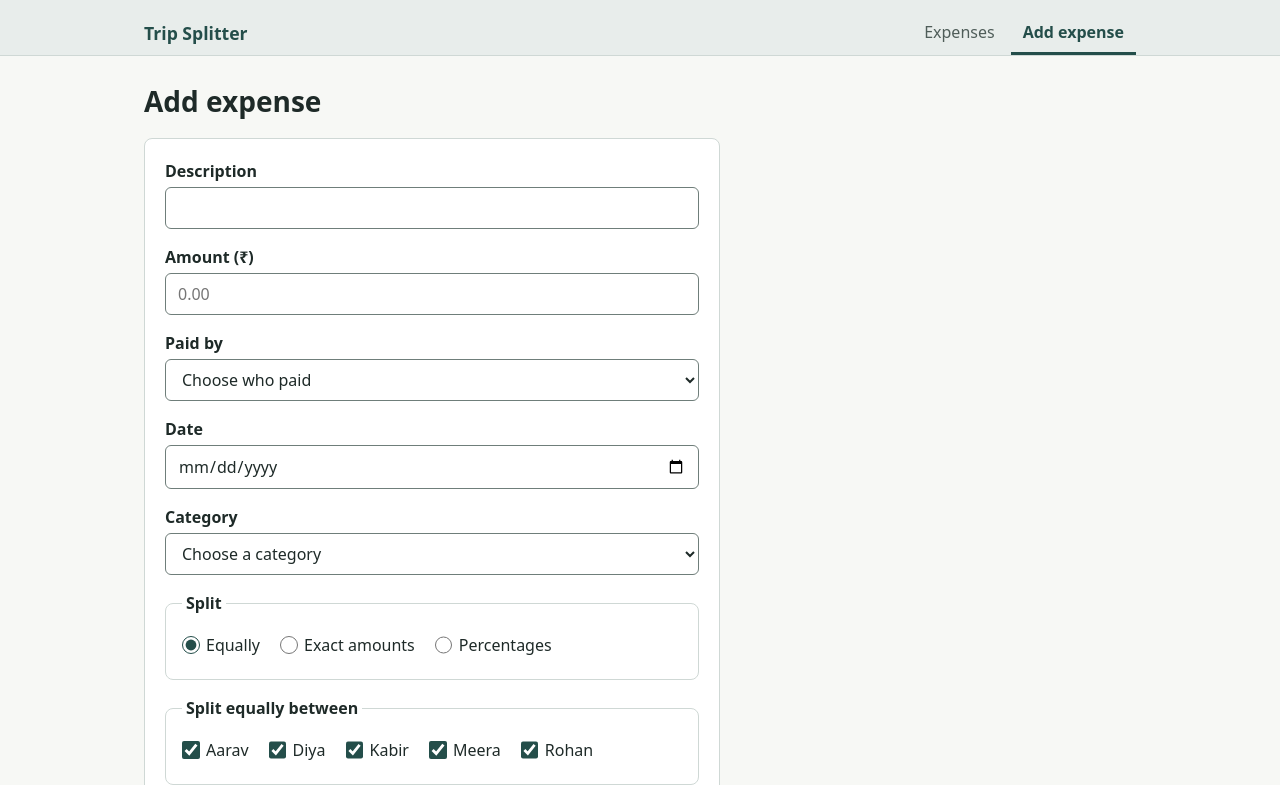
Test: Add expense form › saves a valid expense, goes to Expenses and says it was added
In the field labelled "Description": (432, 208) [165,187,699,229], type "Fish thali lunch"
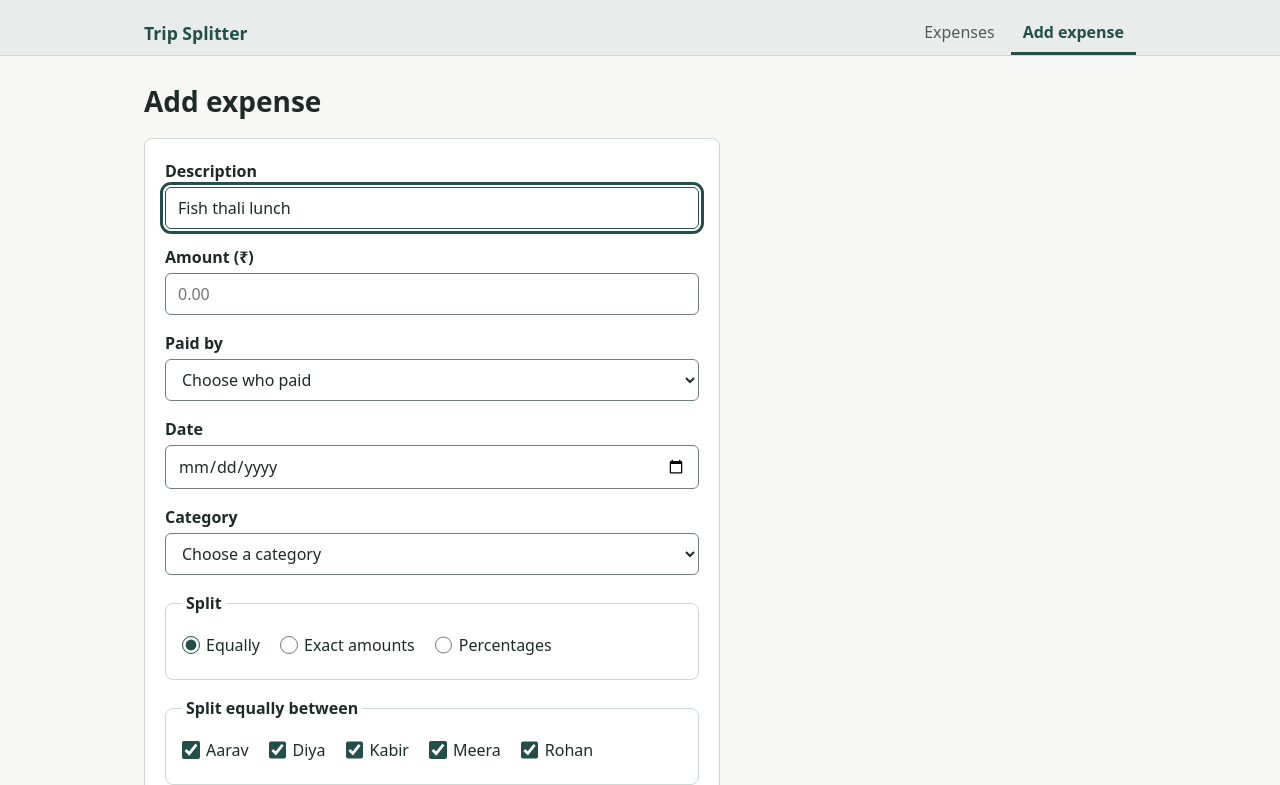
In the field labelled "Amount (₹)": (432, 294) [165,273,699,315], type "1250.50"
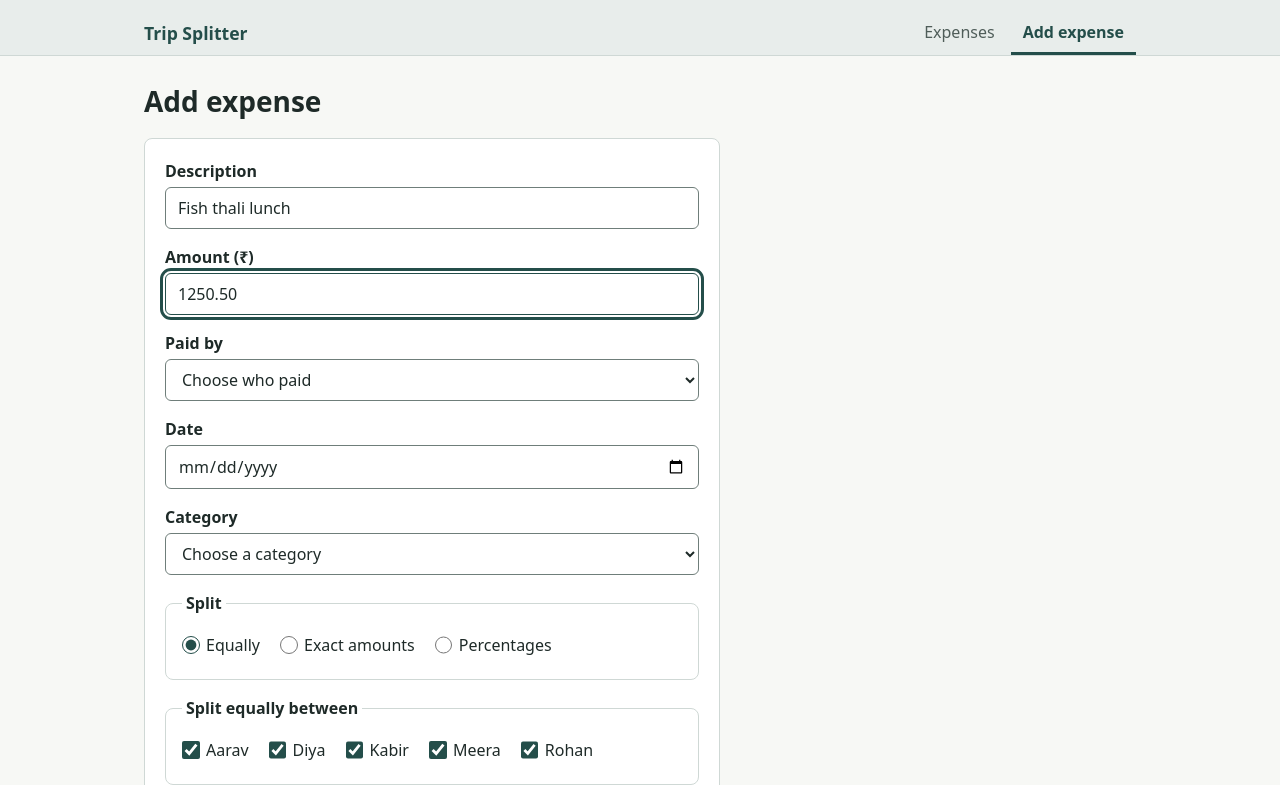
Select "Kabir" in the dropdown labelled "Paid by": (432, 380) [165,359,699,401]
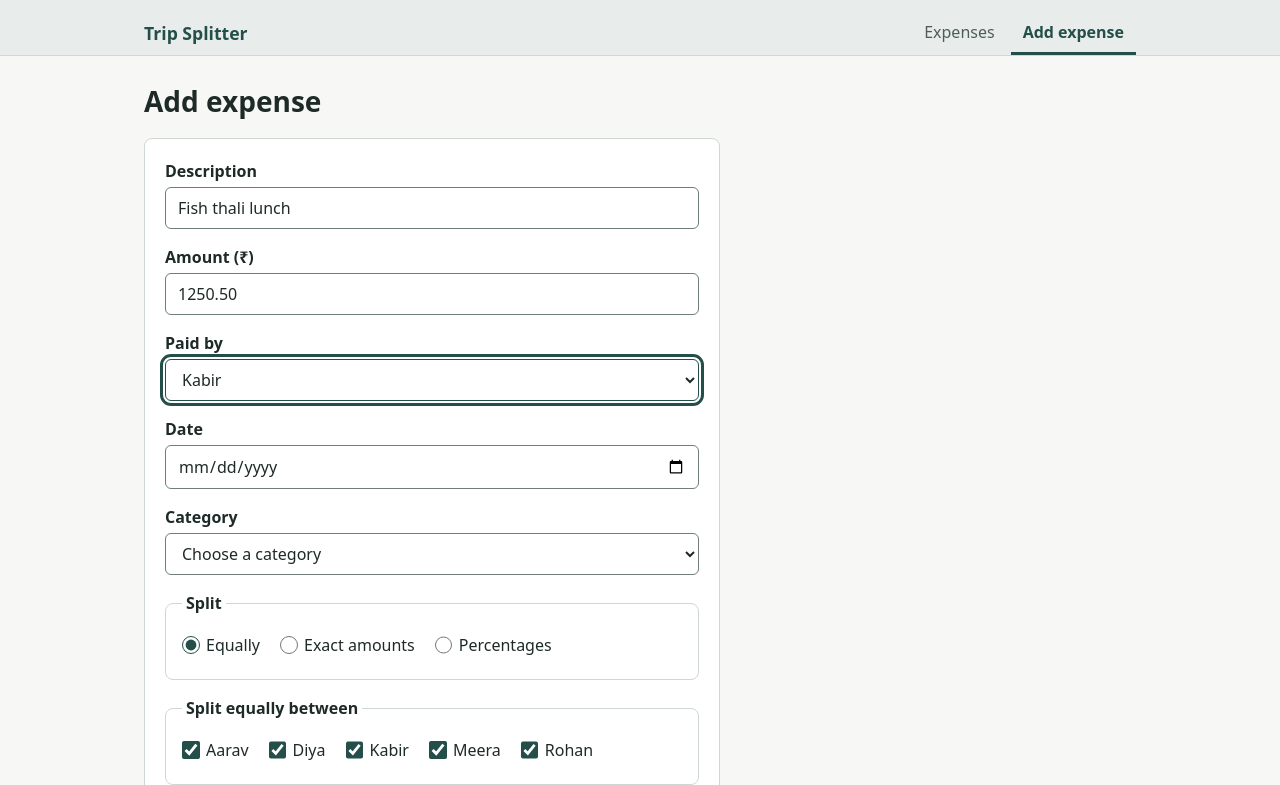
In the date field labelled "Date": (432, 467) [165,445,699,489], type "2026-03-16"
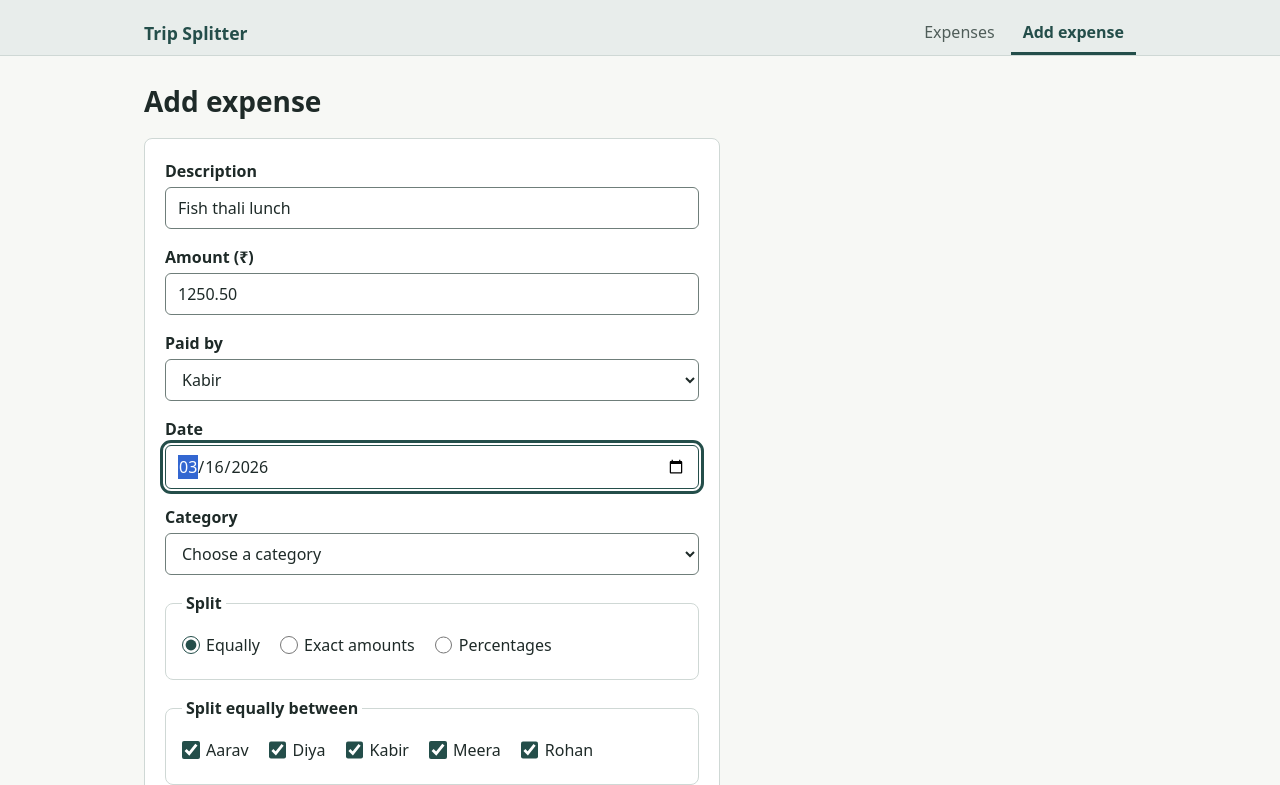
Select "Food" in the dropdown labelled "Category": (432, 554) [165,533,699,575]
(page scrolled)
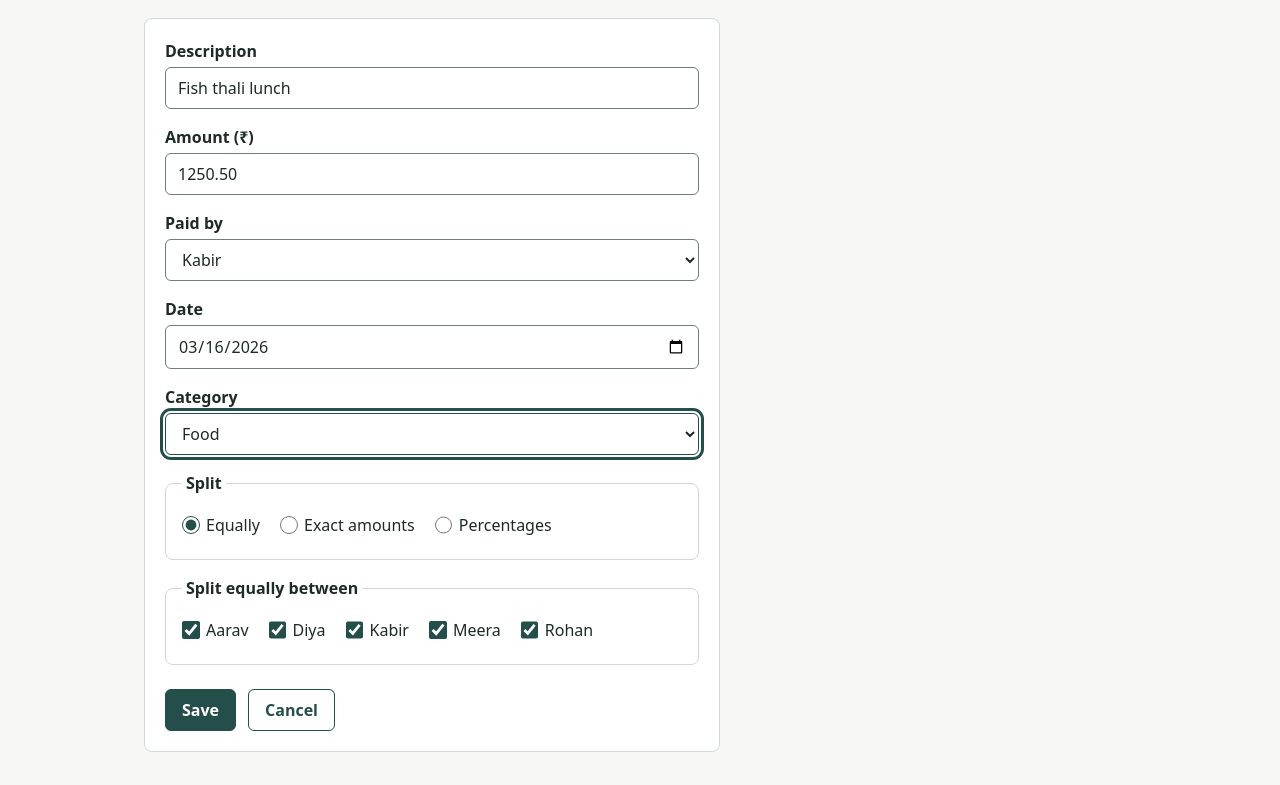
Click the button "Save": click(200, 710) [165,689,236,731]
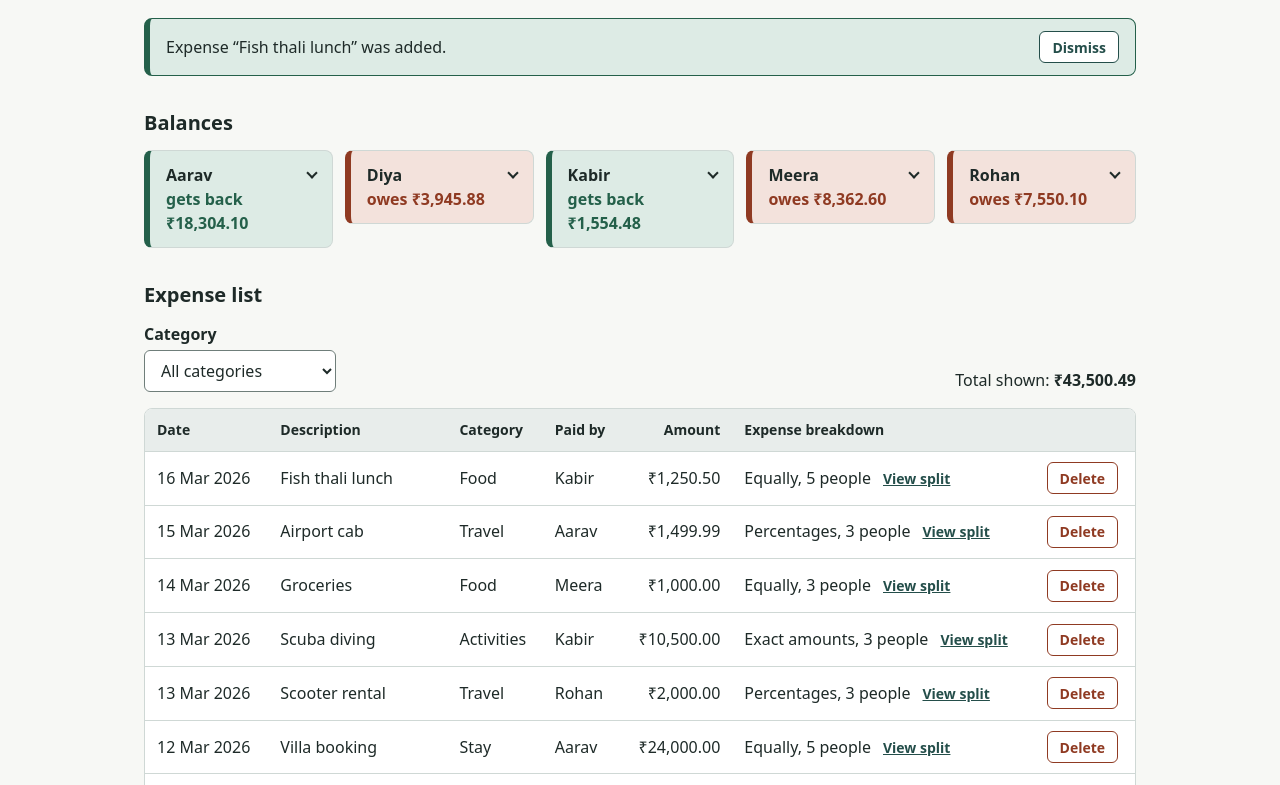
Expected: the message shows "Expense “Fish thali lunch” was added.", [144,18,1136,76]
Expected: the row "Fish thali lunch" is shown, [145,452,1135,505]
